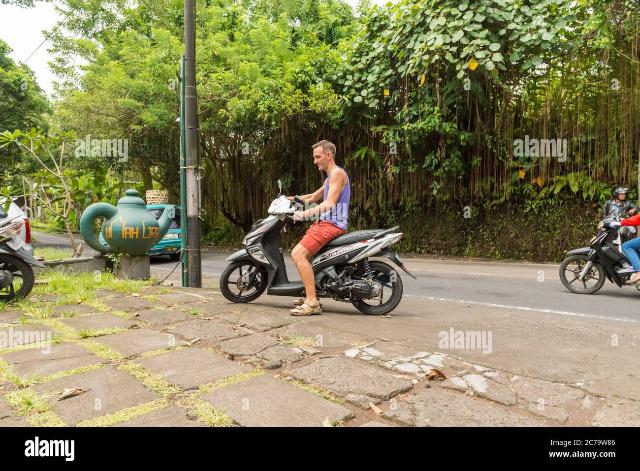helm: (612, 187, 632, 202)
motor: (219, 178, 419, 324), (559, 215, 640, 297)
non-helm: (311, 140, 339, 172)
